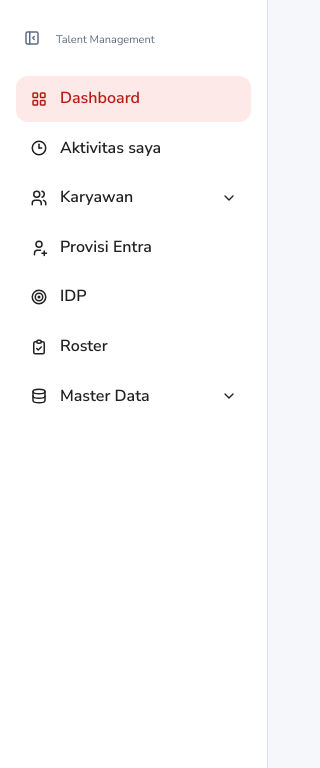
Test: Sidebar › minimizes to an icon-only rail when toggled and restores on expand
Click the button named "Collapse navigation": (32, 38) [16, 22, 48, 54]
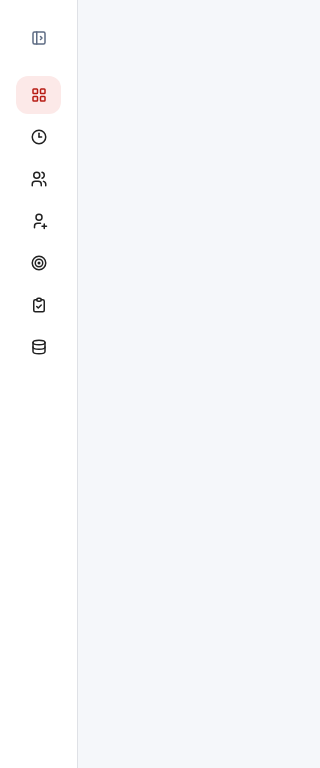
expect the link named "Dashboard" is shown: met, box [16, 76, 61, 114]
expect the button named "Collapse navigation" is collapsed: met
expect the button named "Expand navigation" is shown: met
Click the button named "Expand navigation": (38, 38) [22, 22, 54, 54]
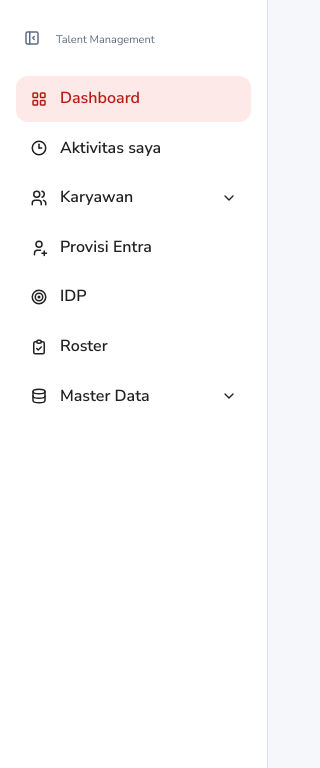
expect the button "Master Data" is shown: met, box [16, 374, 251, 419]
